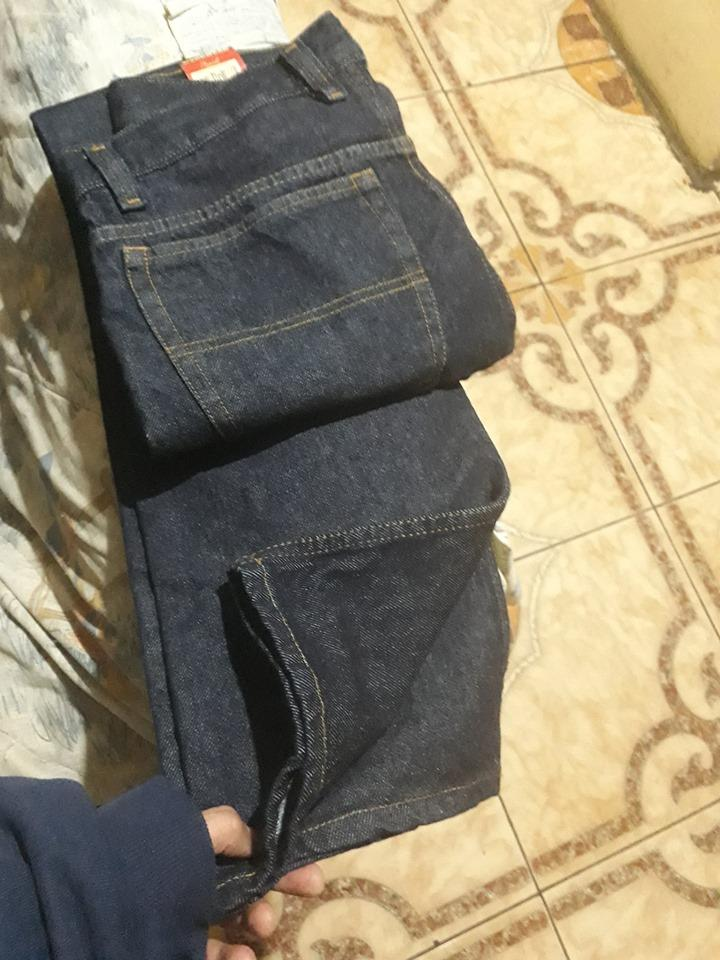Jeans: (0, 0, 529, 911)
